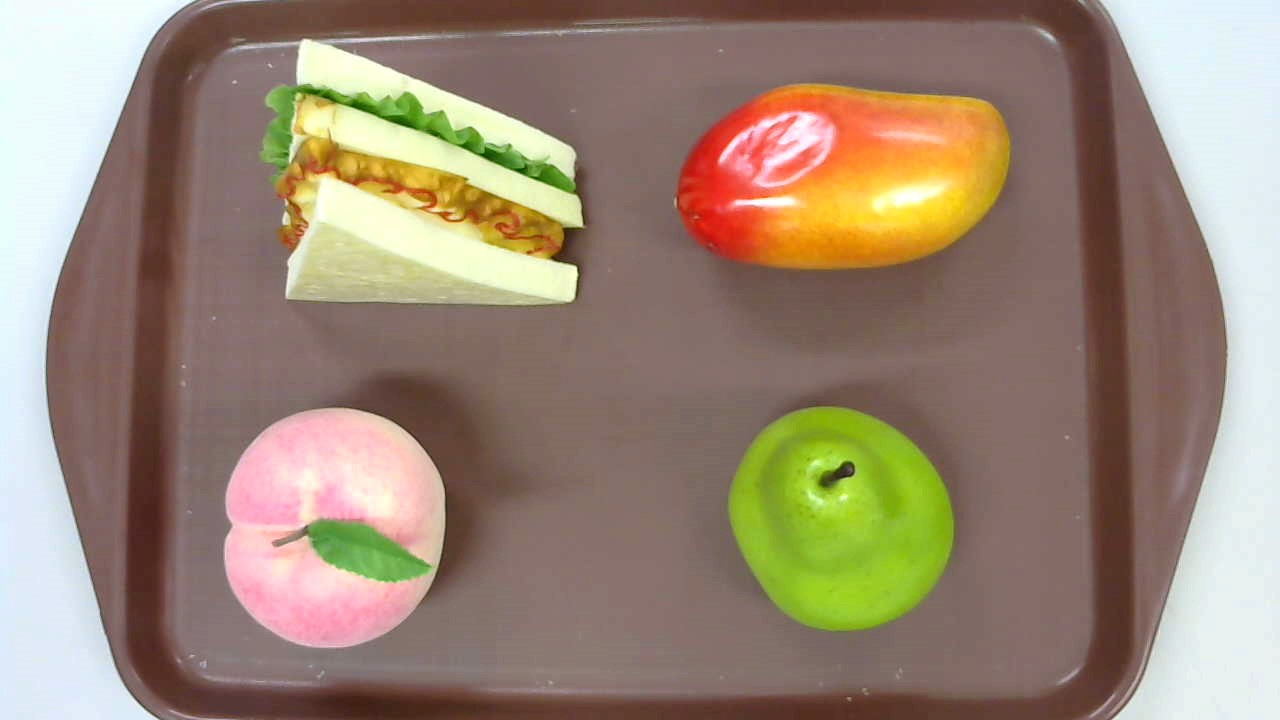green pear: (727, 404, 955, 633)
peach: (223, 406, 445, 651)
red mango: (676, 82, 1010, 273)
sandwich: (260, 37, 588, 309)
